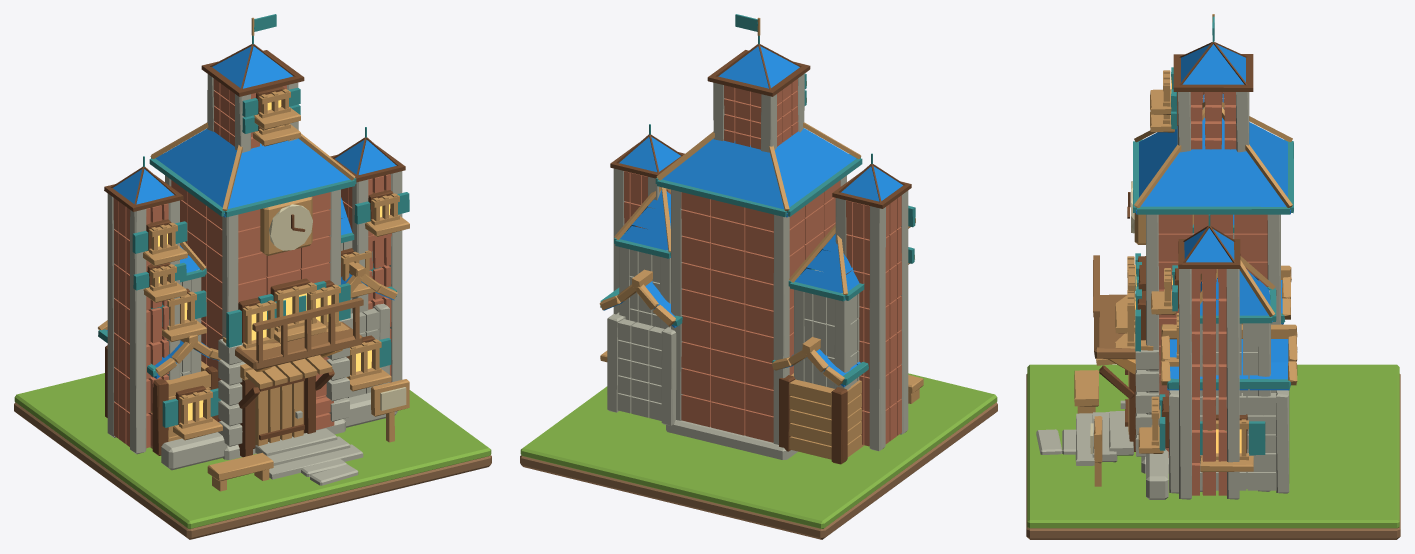
File: town_hall_l11_active_LOD1.glb
3 views of the same model, side by side, from view 1: azimuth 30°, elevation 25°; view 2: azimuth 150°, elevation 25°; view 3: azimuth 270°, elevation 25° (orthographic). The views are drawn at different scales.
Parts seen in each view (by area): view 1: town_hall_l11_active_foundation.001, town_hall_l11_active_grass_tile.001, town_hall_l11_active_earth_tile.001, town_hall_l11_active_path_stone.005; view 2: town_hall_l11_active_foundation.001, town_hall_l11_active_grass_tile.001, town_hall_l11_active_earth_tile.001; view 3: town_hall_l11_active_foundation.001, town_hall_l11_active_grass_tile.001, town_hall_l11_active_earth_tile.001, town_hall_l11_active_path_stone.005.
Part boxes in pixels (x1,y1,x2,y2): town_hall_l11_active_foundation.001: (98,14,409,491); town_hall_l11_active_grass_tile.001: (14,373,491,528); town_hall_l11_active_earth_tile.001: (14,402,491,539); town_hall_l11_active_path_stone.005: (310,464,358,485); town_hall_l11_active_foundation.001: (599,14,923,464); town_hall_l11_active_grass_tile.001: (520,373,997,528); town_hall_l11_active_earth_tile.001: (520,402,997,539); town_hall_l11_active_foundation.001: (1074,14,1297,499); town_hall_l11_active_grass_tile.001: (1027,364,1399,528); town_hall_l11_active_earth_tile.001: (1026,374,1400,539); town_hall_l11_active_path_stone.005: (1036,429,1062,454).
Bounding box in the file's own units: 3.6 × 4.76 × 3.6.
